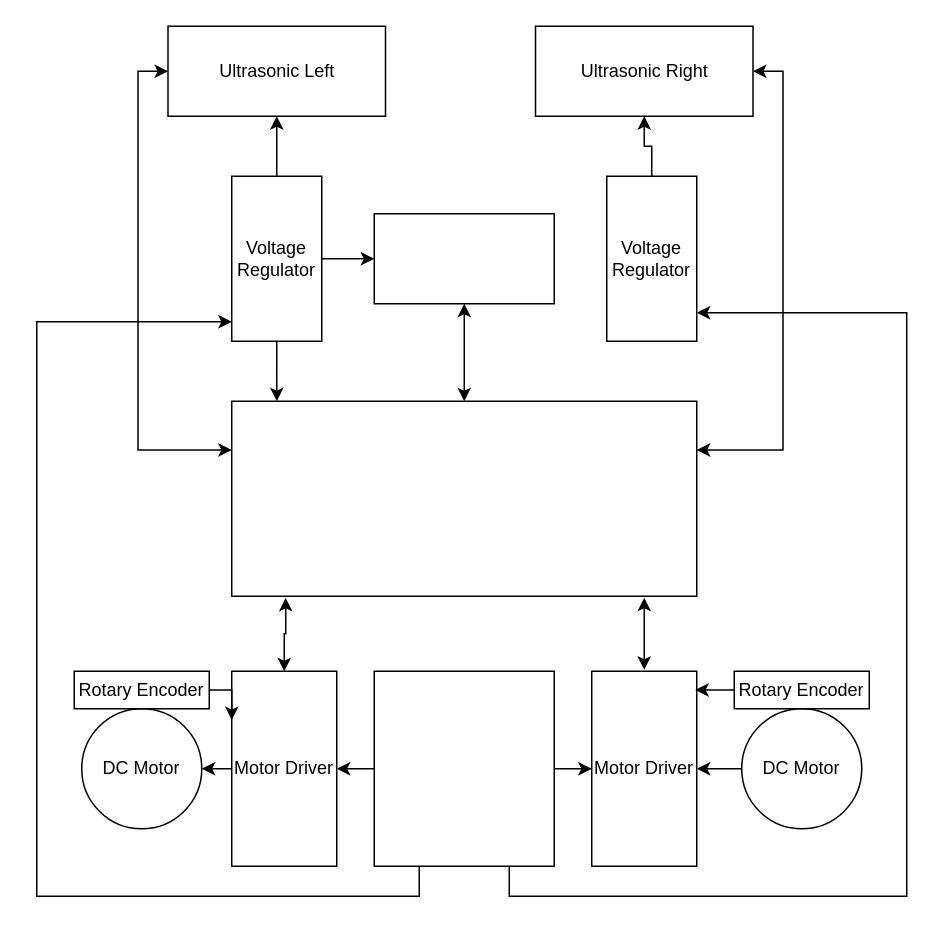
This 945x935 diagram has some shape labels left out. Here are the shapes that lost their labels. From the top down, the centre of each, then its label:
At [463,258]: "Bluetooth USART Adapter".
At [463,498]: "STM32 Microcontroller Discovery Board".
At [463,768]: "6V Battery Pack".
